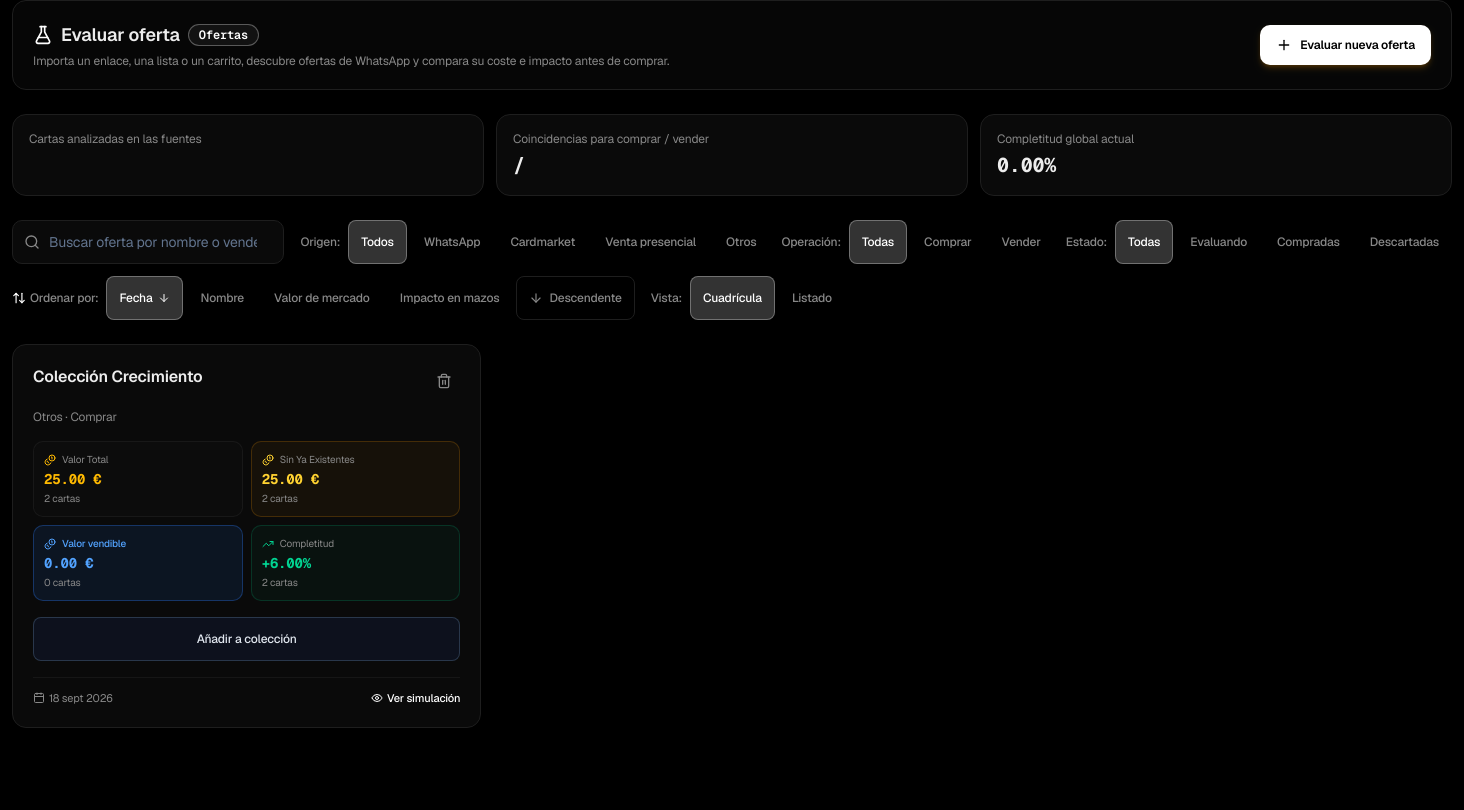
Test: Simulated Collections Feature › supports the Deck Growth feature showing visual progress bar and cards added in list and grid formats
The image size is (1464, 810).
Click the heading "Colección Crecimiento": (118, 377) [33,365,203,389]
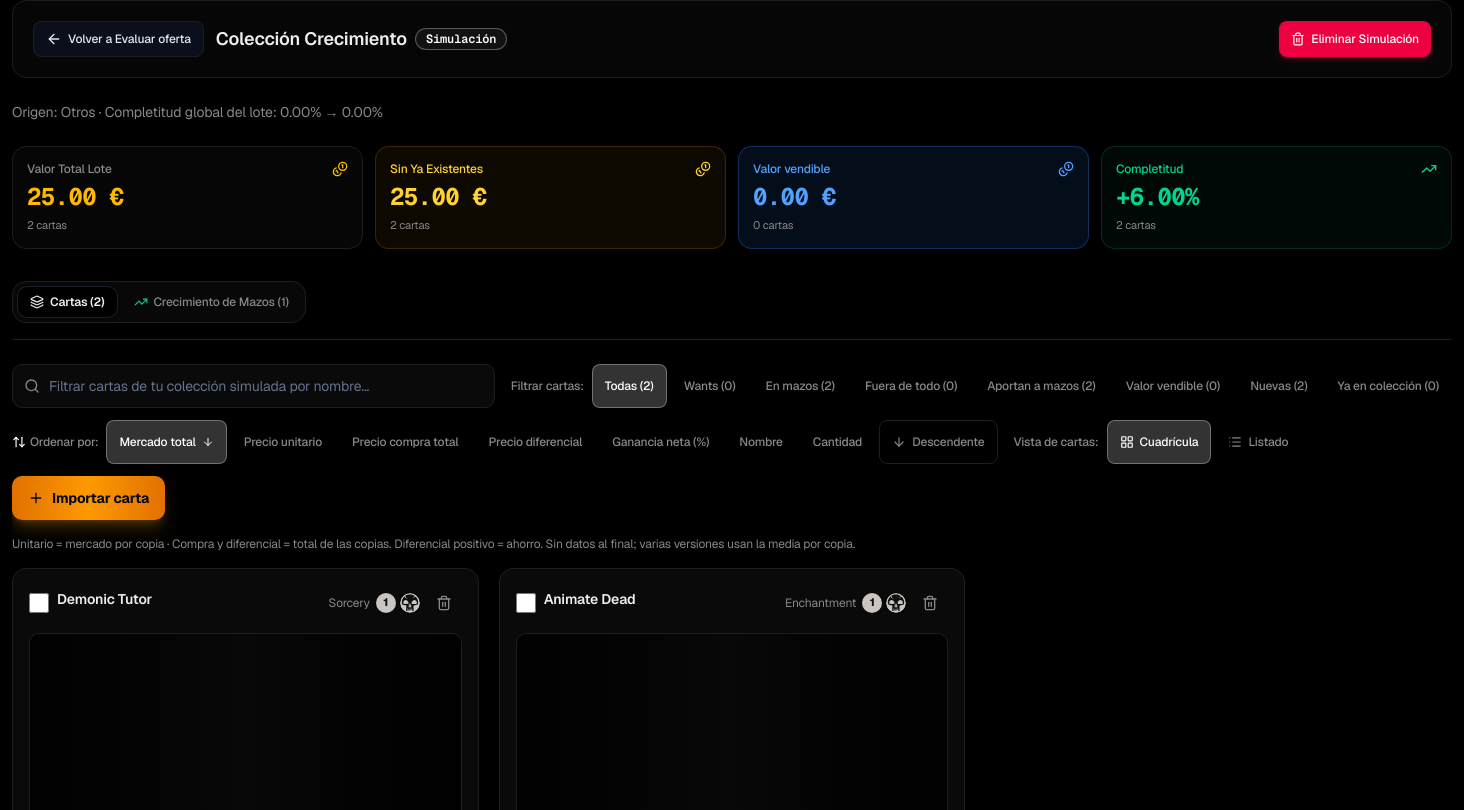
Now the button "Crecimiento de Mazos (1)" is shown
Click the button "Crecimiento de Mazos (1)": (211, 302) [122,286,301,318]
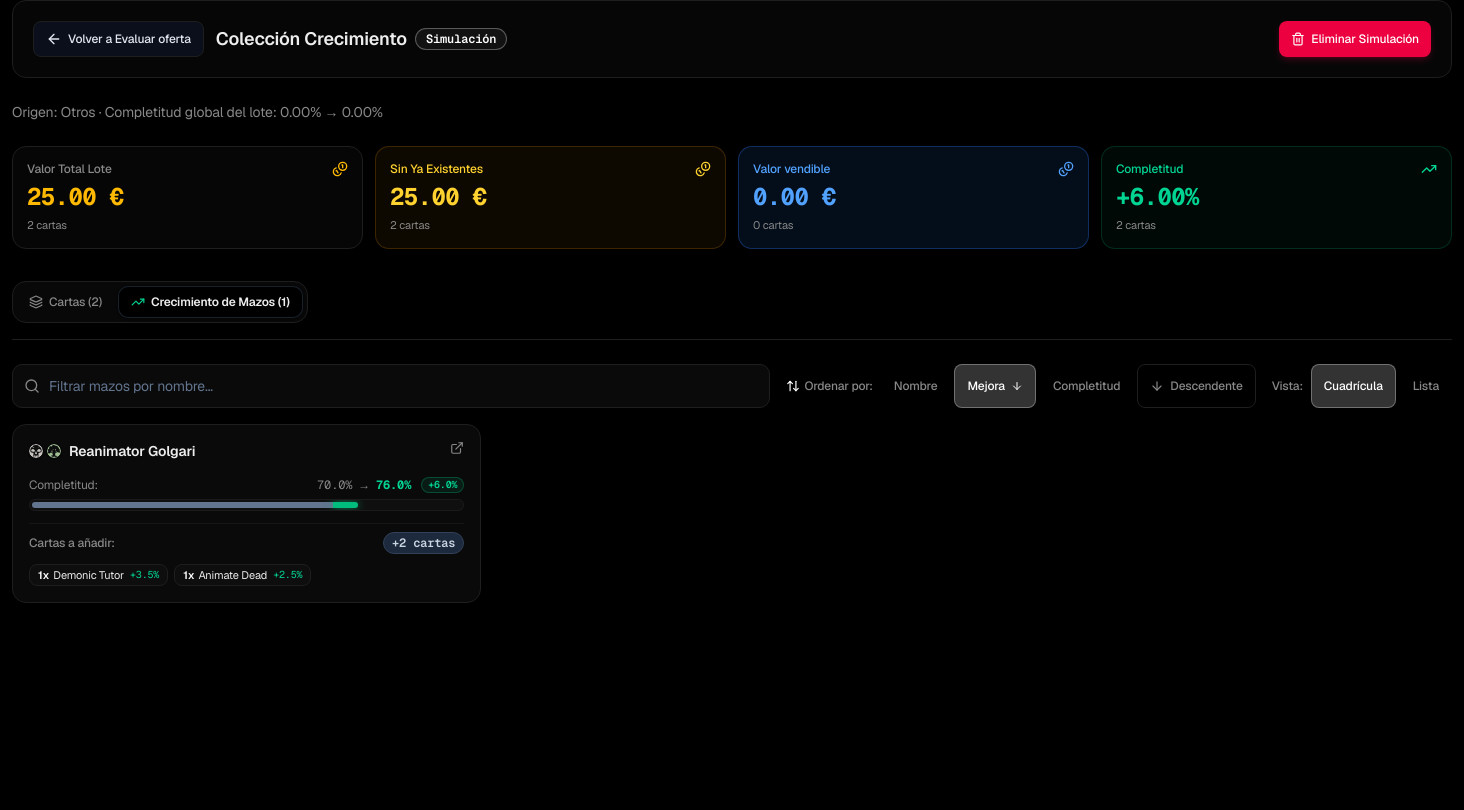
Now the link "Reanimator Golgari" is shown, box [69,440,195,460]
Now the text "70.0%" is shown, box [317,476,352,492]
Now the text "76.0%" is shown, box [376,476,411,492]
Note: Toggle format to Lista
Click the button "Lista": (1426, 386) [1400,364,1452,408]
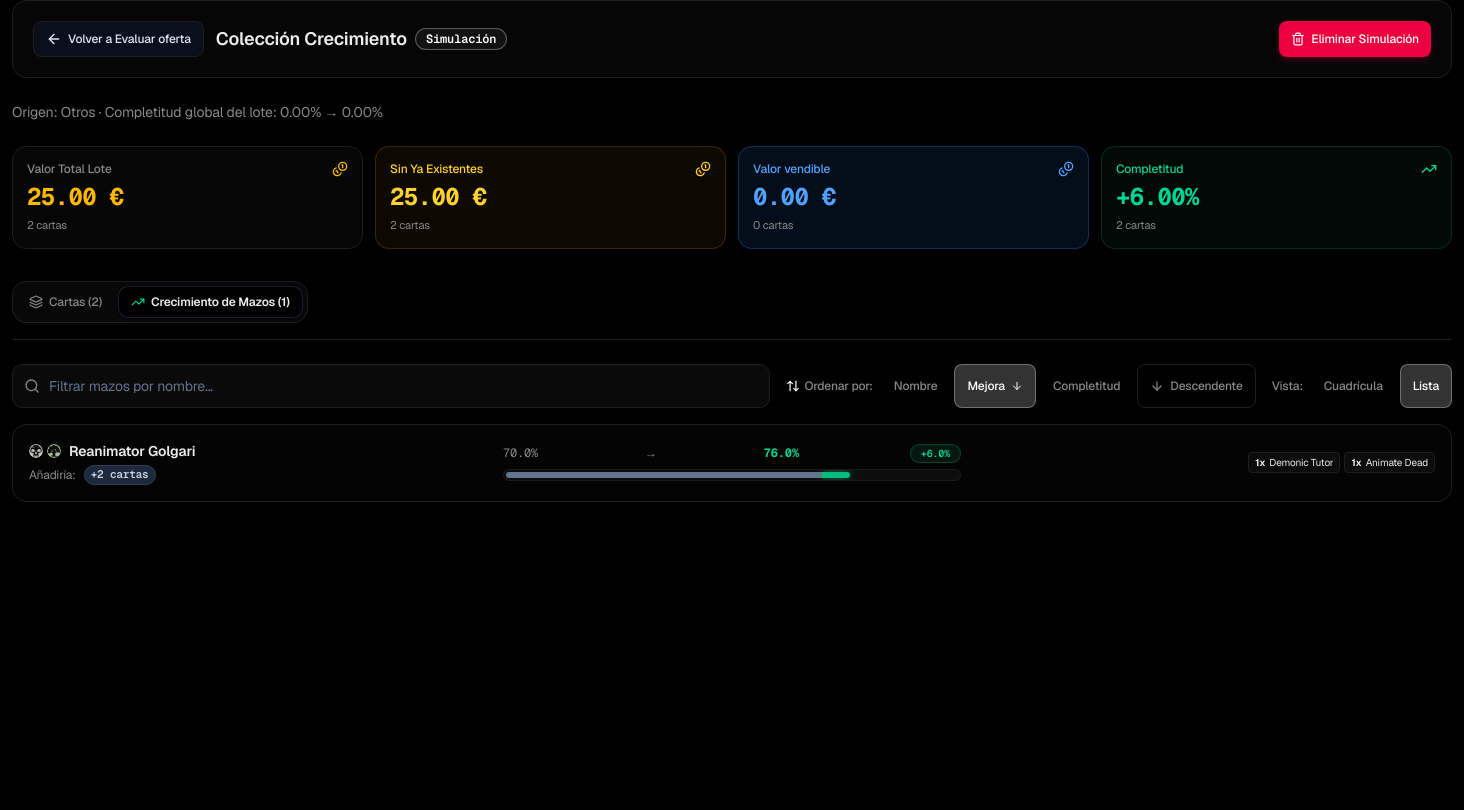
Expected: the link "Reanimator Golgari" is shown, [69,440,195,460]
Now the text "+2 cartas" is shown, box [84,464,156,484]
